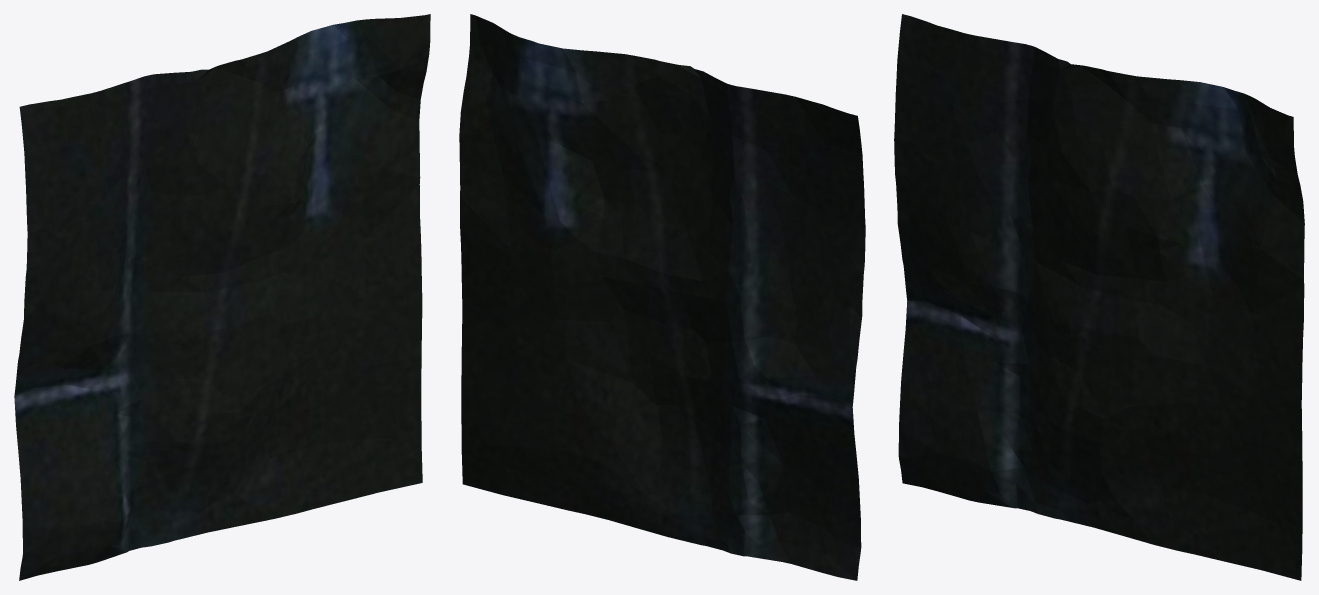
The model's file is tile_5_1_21_tex.obj.
3 views of the same model, side by side, from view 1: azimuth 30°, elevation 25°; view 2: azimuth 150°, elevation 25°; view 3: azimuth 330°, elevation 25° (orthographic). The views are drawn at different scales.
Parts seen in each view (by area): view 1: obj_0; view 2: obj_0; view 3: obj_0.
Boxes of the visible parts, x1=… form: obj_0: x1=14, y1=14, x2=430, y2=580; obj_0: x1=459, y1=14, x2=865, y2=580; obj_0: x1=894, y1=14, x2=1304, y2=580.
Size of the model in its own units: 5.01 by 5.64 by 0.3335.
Materials: 1 (1 with a texture image).
